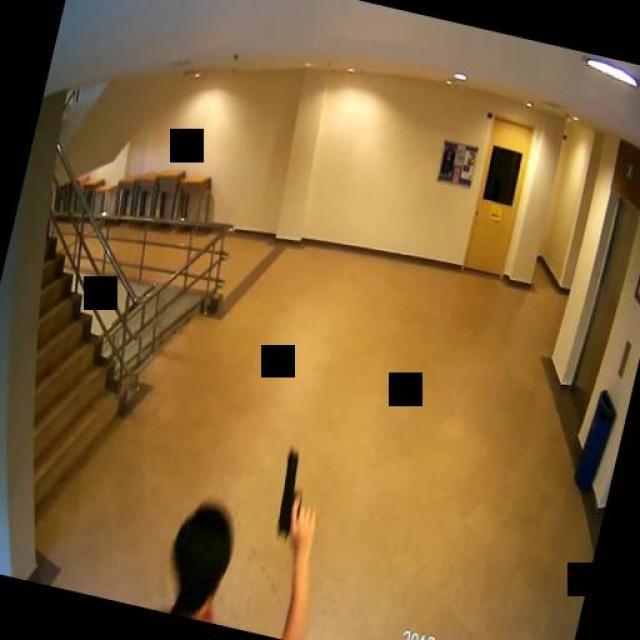gun: (269, 447, 330, 542)
